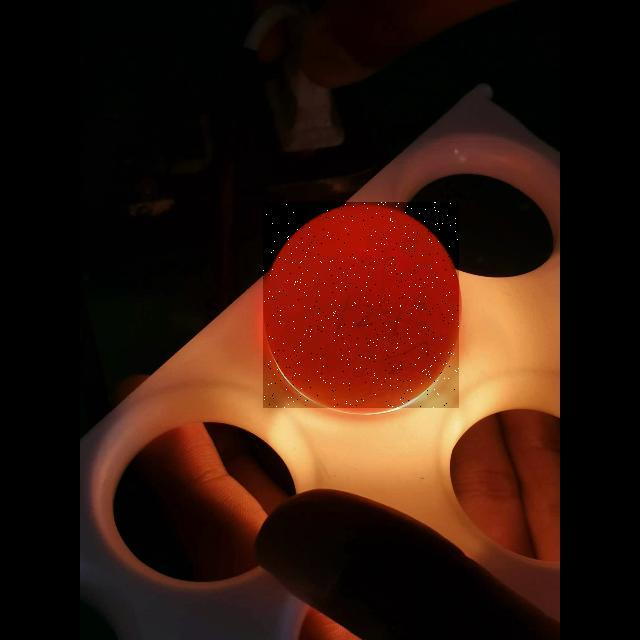Infertile: (263, 202, 459, 408)
